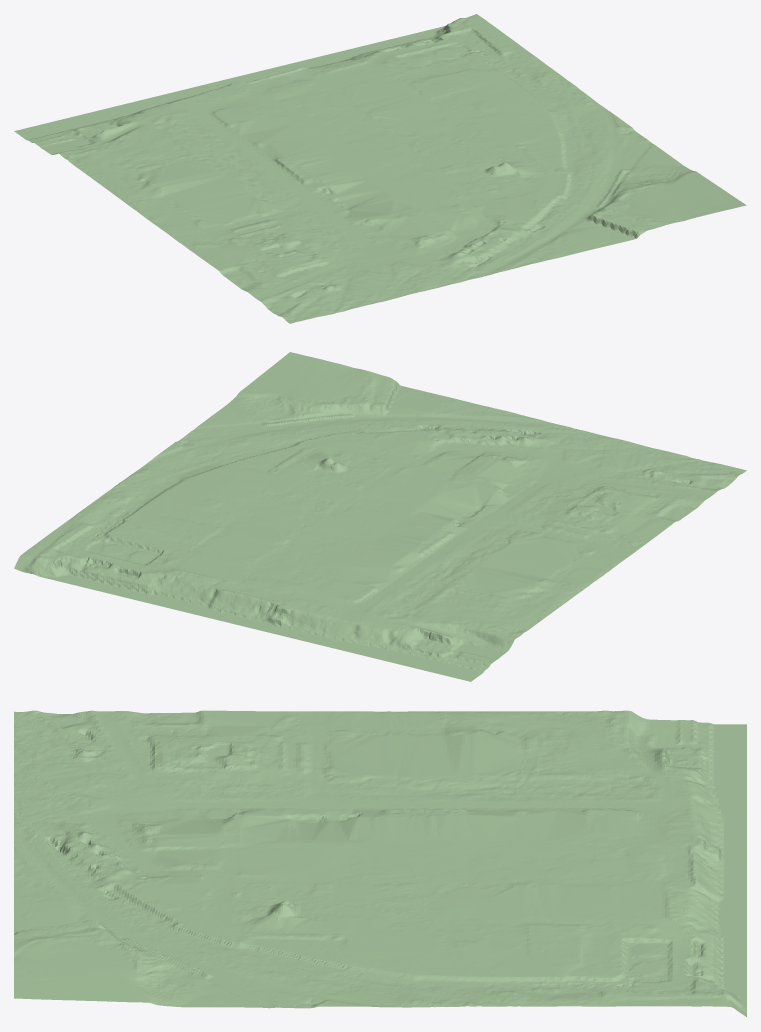
The model's file is dgm_reference.glb.
3 renders of one model, top to bottom at view 1: azimuth 30°, elevation 25°; view 2: azimuth 150°, elevation 25°; view 3: azimuth 270°, elevation 25°, orthographic. The views are drawn at different scales.
Bounding box in the file's own units: 17.04 × 0.6709 × 17.83.
